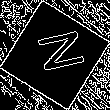N_W: (26, 30, 84, 80)
